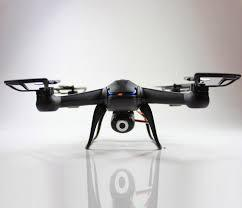drone: (0, 71, 242, 148)
